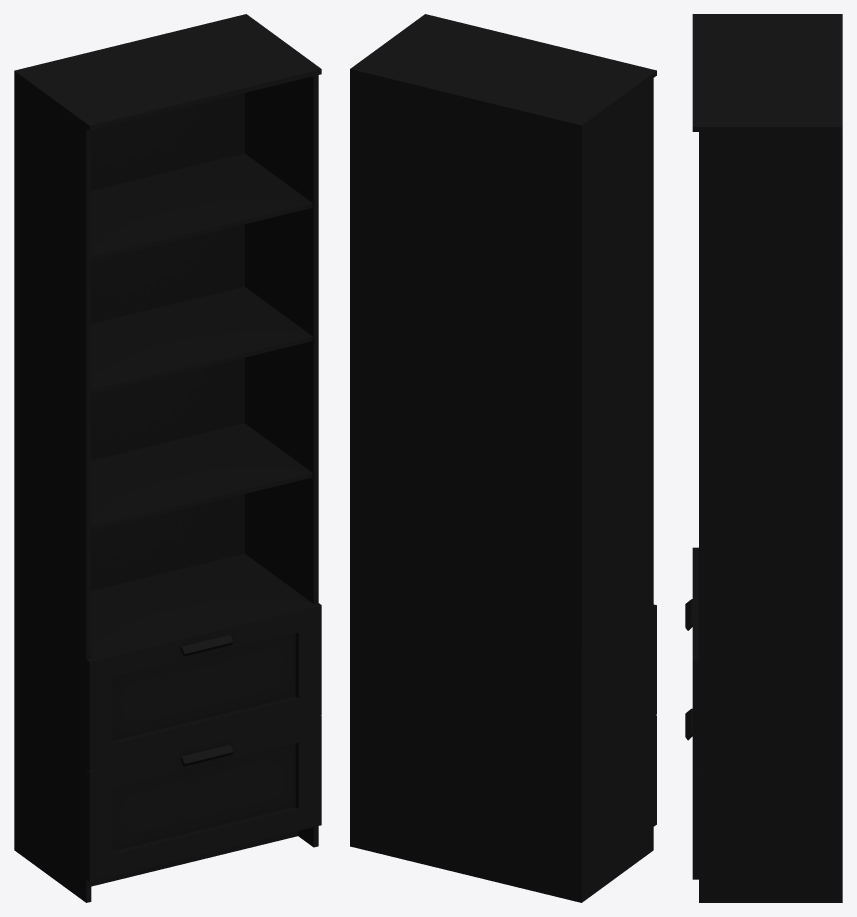
The model's file is Shelve_010Black.gltf.
3 renders of one model, left to right at view 1: azimuth 30°, elevation 25°; view 2: azimuth 150°, elevation 25°; view 3: azimuth 270°, elevation 25°, orthographic.
Visible parts, largest first — view 1: Shelf_010; view 2: Shelf_010; view 3: Shelf_010.
Part boxes in pixels (box(x1,y1,x2,y2)): Shelf_010: box(14, 14, 321, 902); Shelf_010: box(350, 14, 656, 902); Shelf_010: box(685, 14, 842, 902).
Bounding box in the file's own units: 0.5943 × 1.91 × 0.3505.
Materials: 1 (1 with a texture image).
